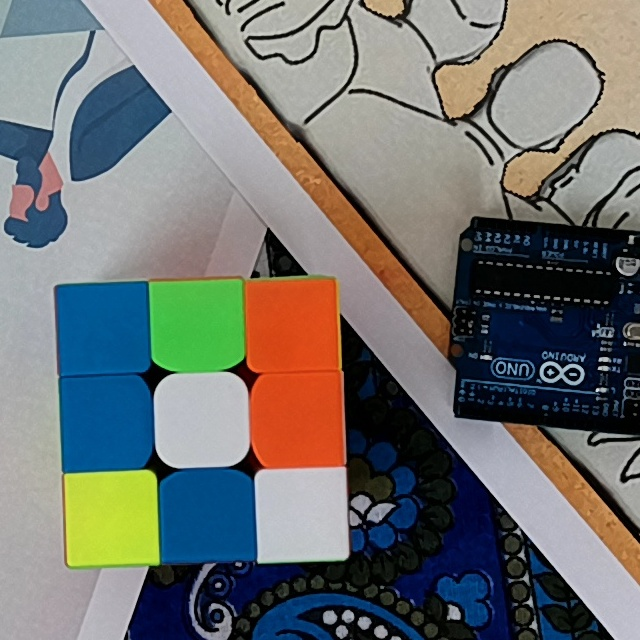tile: (251, 284, 335, 366), (155, 284, 239, 361), (263, 378, 340, 462), (261, 476, 343, 554), (63, 289, 144, 366), (72, 478, 153, 555), (67, 383, 146, 459), (168, 481, 247, 555), (162, 385, 242, 455)
